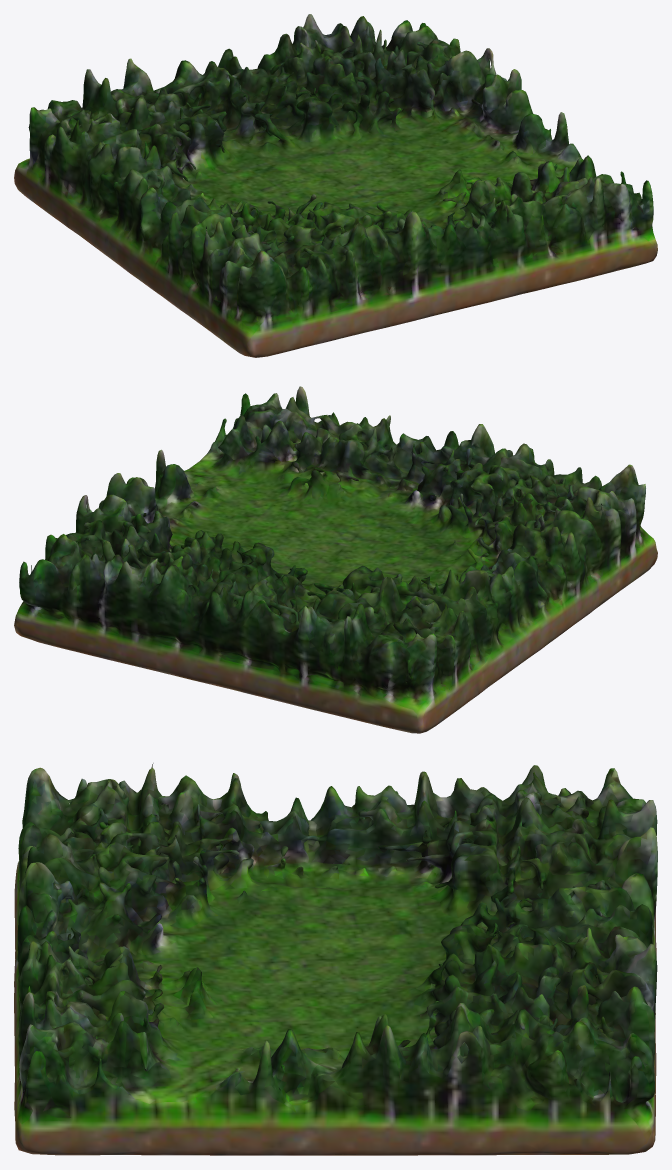
Rendered from bb4ccfc3b167Aforestscenewit.fbx.
3 views of the same model, one above another, from view 1: azimuth 30°, elevation 25°; view 2: azimuth 150°, elevation 25°; view 3: azimuth 270°, elevation 25° (orthographic). The views are drawn at different scales.
Parts seen in each view (by area): view 1: high_poly; view 2: high_poly; view 3: high_poly.
Boxes of the visible parts, box(x1,y1,x2,y2) form: high_poly: box(14, 14, 657, 357); high_poly: box(14, 386, 657, 733); high_poly: box(14, 763, 657, 1155).
Bounding box in the file's own units: 99.57 × 24.6 × 100.
